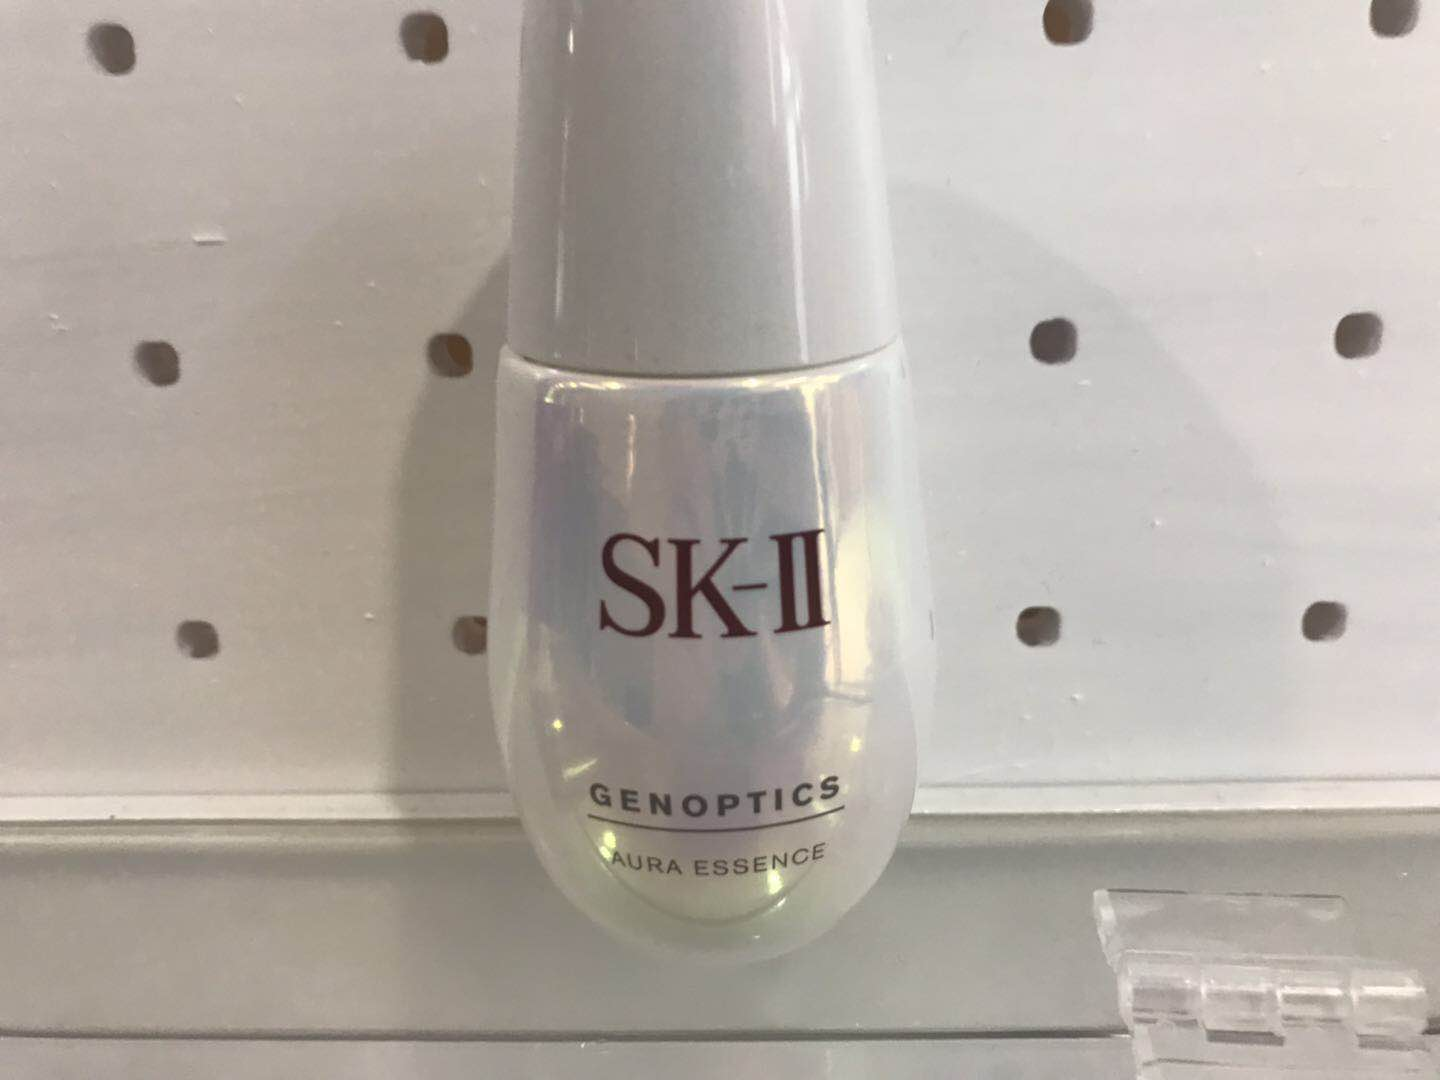sk2: (447, 1, 965, 1009)
